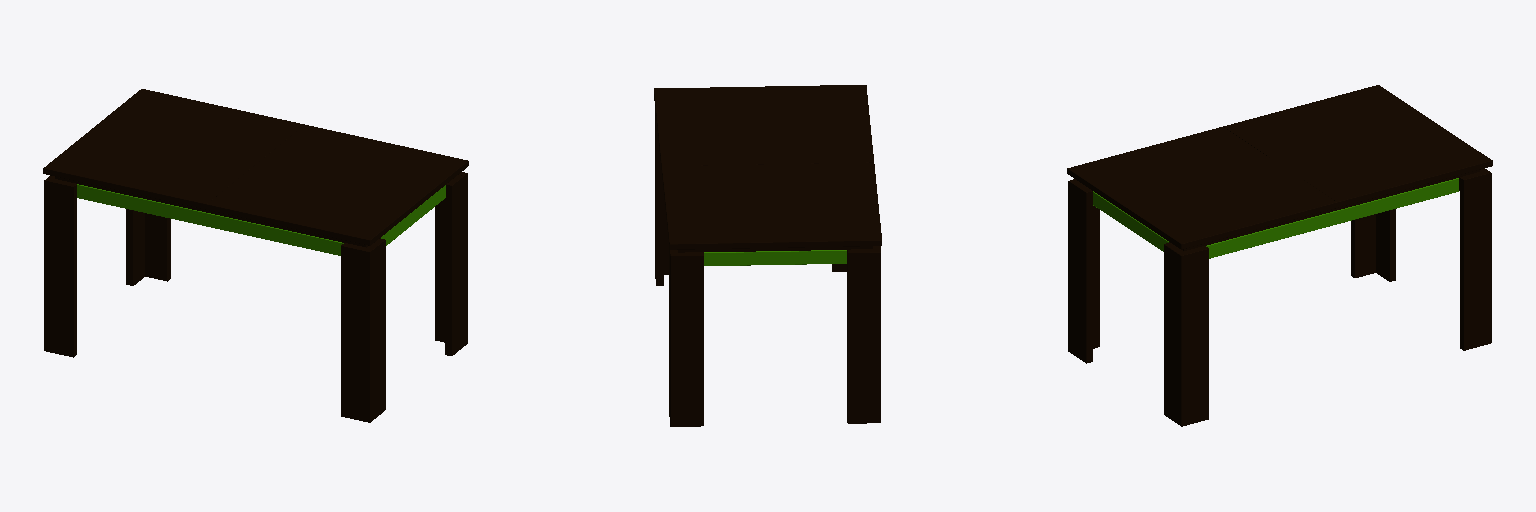
Rendered from Table_OBJ.obj.
3 renders of one model, left to right at view 1: azimuth 30°, elevation 25°; view 2: azimuth 150°, elevation 25°; view 3: azimuth 270°, elevation 25°, orthographic.
Parts seen in each view (by area): view 1: Object006, Box001, Object003, Object005, Object001; view 2: Object006, Box001, Object002, Object005; view 3: Object006, Box001, Object004, Object001, Object005.
Part boxes in pixels (x1,y1,x2,y2): Object006: (43,89,468,245); Box001: (44,172,467,422); Object003: (77,184,343,255); Object005: (55,177,367,247); Object001: (381,185,445,245); Object006: (654,85,881,249); Box001: (655,111,880,426); Object002: (704,250,846,265); Object005: (678,246,872,252); Object006: (1067,85,1492,249); Box001: (1068,168,1491,426); Object004: (1206,178,1458,258); Object001: (1093,191,1168,251); Object005: (1183,170,1479,250).
Bounding box in the file's own units: 1329 × 712 × 1498.